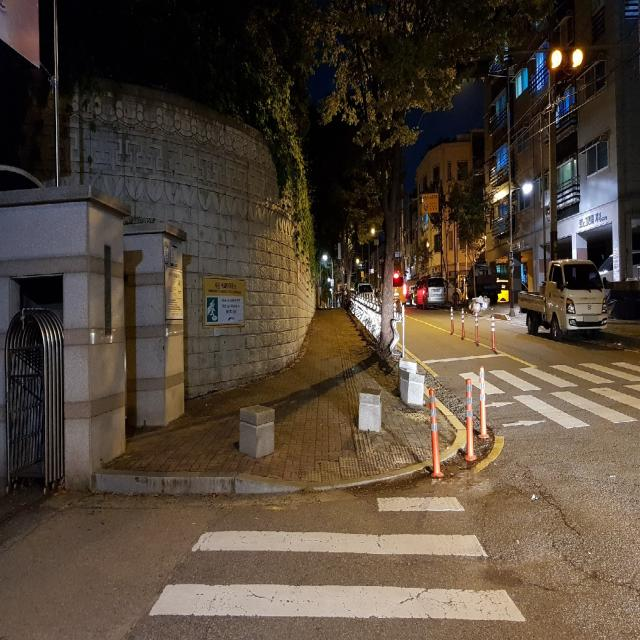횡단보도: (148, 494, 527, 624), (451, 358, 640, 437)
